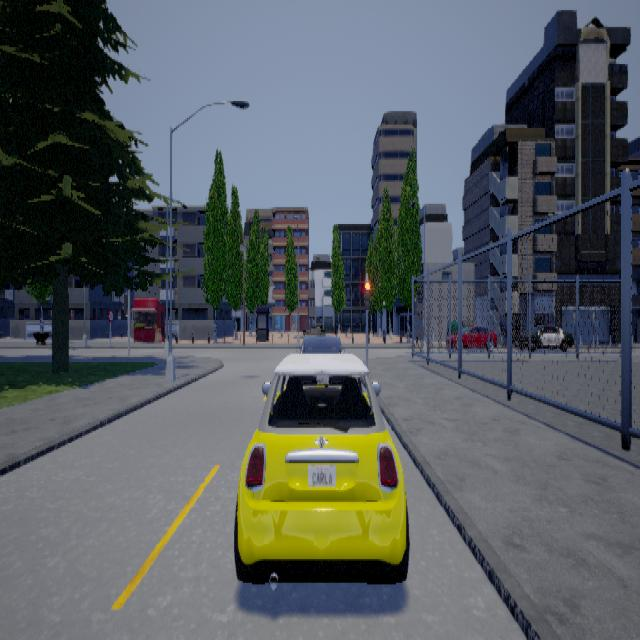red_light: (364, 275, 369, 313)
vehicle: (233, 347, 409, 588), (510, 322, 573, 350), (446, 318, 497, 351)
